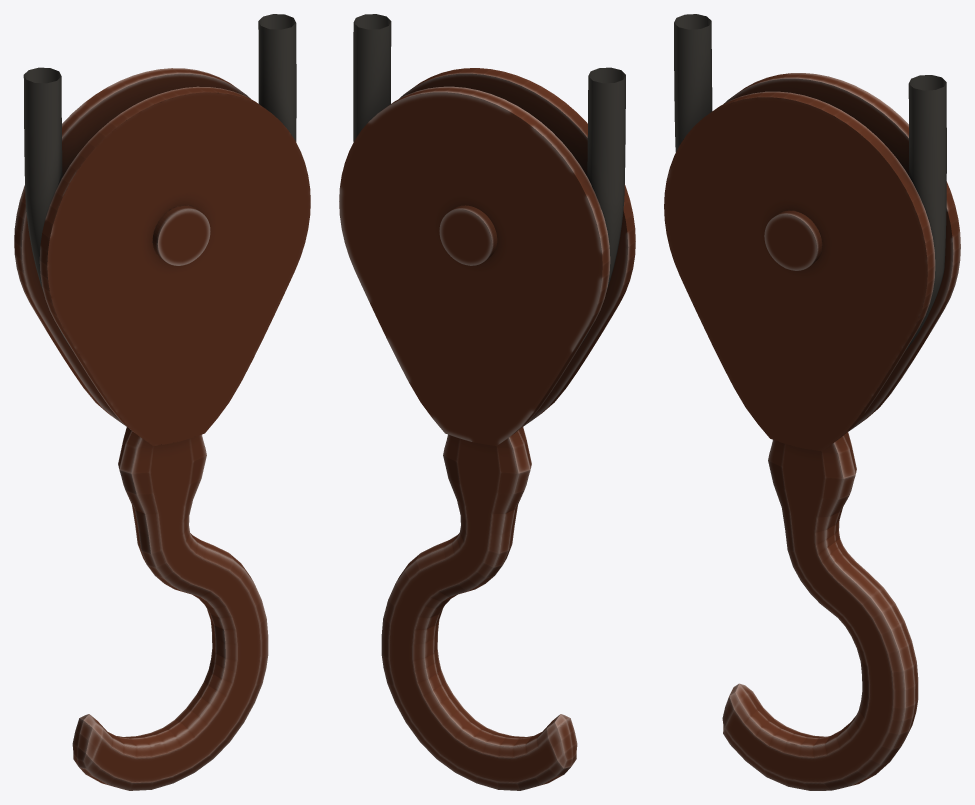
The model's file is krukk.fbx.
3 renders of one model, left to right at view 1: azimuth 30°, elevation 25°; view 2: azimuth 150°, elevation 25°; view 3: azimuth 330°, elevation 25°, orthographic.
Visible parts, largest first — view 1: Plane, BezierCurve; view 2: Plane, BezierCurve; view 3: Plane, BezierCurve.
Part boxes in pixels (box(x1,y1,x2,y2)): Plane: box(14, 68, 310, 790); BezierCurve: box(23, 14, 296, 347); Plane: box(339, 68, 635, 790); BezierCurve: box(353, 14, 625, 344); Plane: box(664, 73, 960, 790); BezierCurve: box(674, 14, 946, 350).
Size of the model in its own units: 607 by 1597 by 170.
